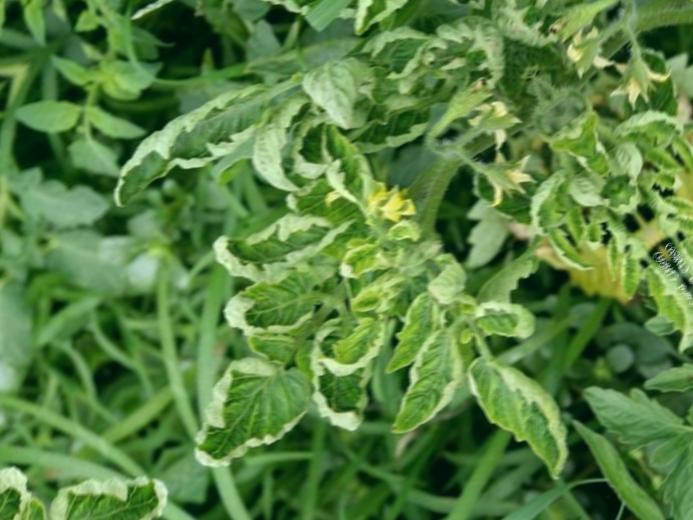Tomato leaf yellow virus: (155, 306, 356, 487), (442, 321, 603, 501), (186, 164, 350, 321), (269, 292, 425, 448), (351, 314, 493, 451), (203, 237, 341, 369), (298, 115, 389, 217), (332, 0, 461, 47), (332, 226, 399, 289)
